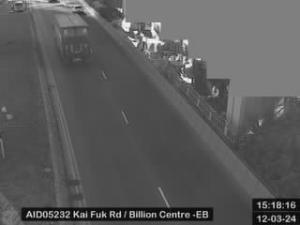truck: (52, 10, 90, 66)
vehicle: (14, 1, 24, 11), (73, 5, 84, 13)
